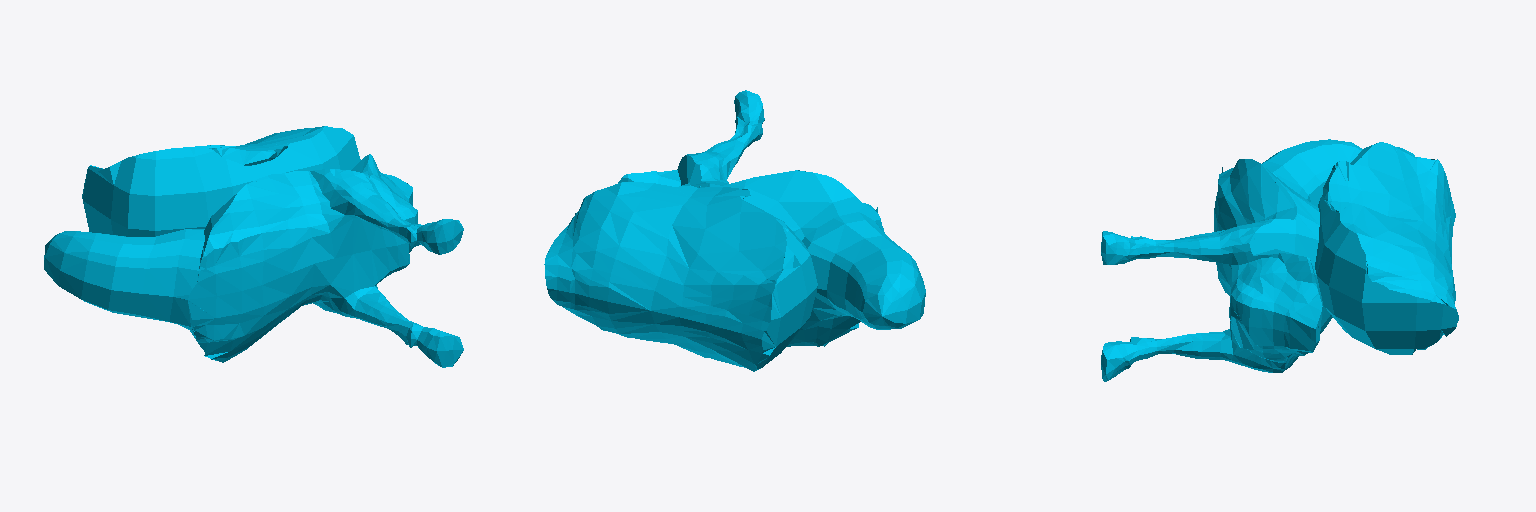
Rendered from Intersection_back_up.obj.
3 renders of one model, left to right at view 1: azimuth 30°, elevation 25°; view 2: azimuth 150°, elevation 25°; view 3: azimuth 270°, elevation 25°, orthographic.
Visible parts, largest first — view 1: Mesh1 object__0 Model; view 2: Mesh1 object__0 Model; view 3: Mesh1 object__0 Model.
Part boxes in pixels (bbox=[...]): Mesh1 object__0 Model: bbox=[44, 126, 463, 367]; Mesh1 object__0 Model: bbox=[544, 90, 925, 371]; Mesh1 object__0 Model: bbox=[1101, 139, 1458, 381].
Bounding box in the file's own units: 75.25 × 36.43 × 66.61.